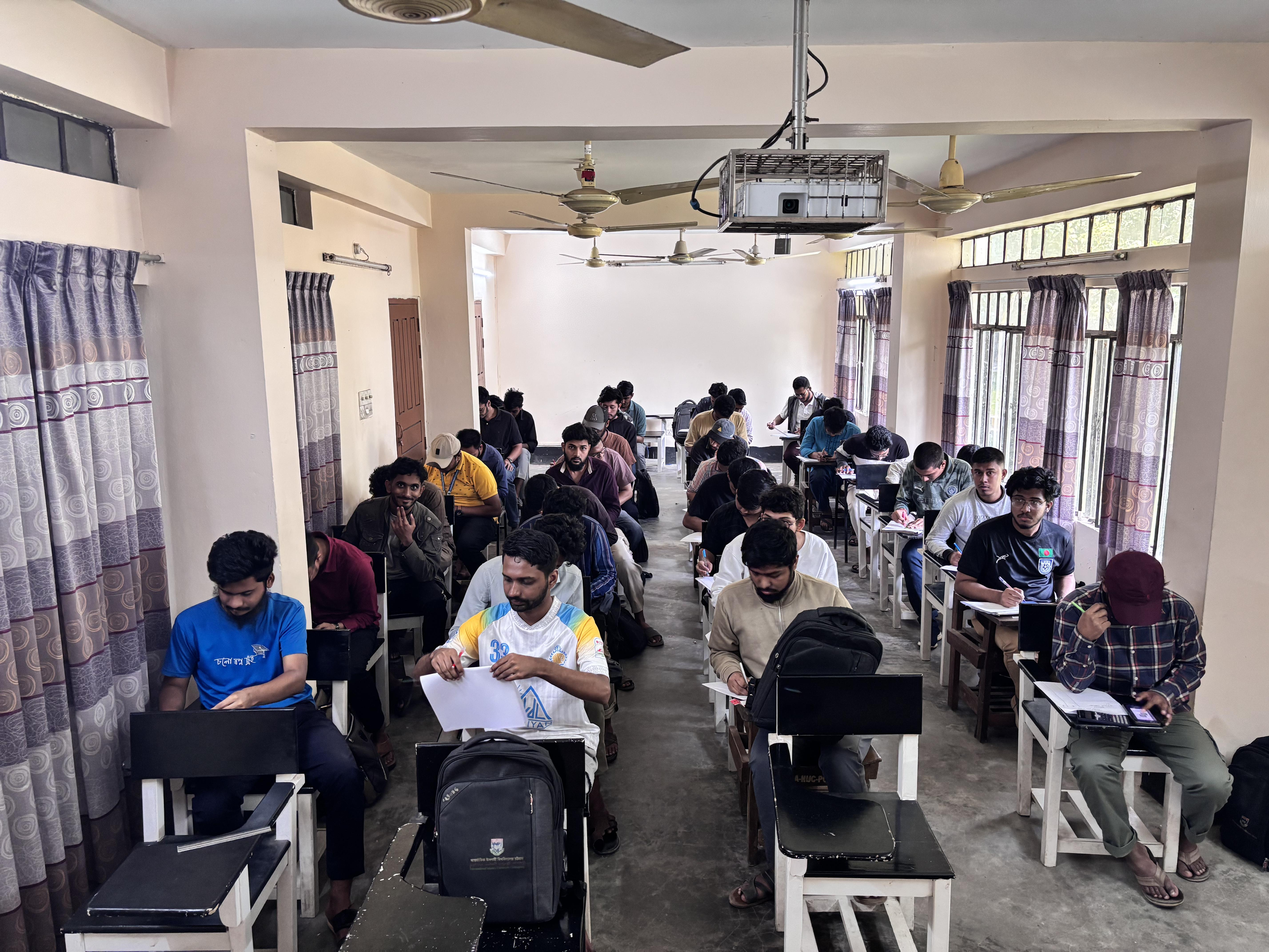hidden_communication: (699, 421, 742, 454)
no_cheating: (450, 533, 608, 761), (172, 531, 314, 750), (695, 524, 832, 733), (979, 463, 1073, 614), (895, 441, 971, 542), (374, 458, 437, 567), (427, 427, 500, 502), (774, 374, 836, 442), (840, 424, 911, 482), (963, 449, 1012, 527), (720, 470, 782, 531), (555, 421, 611, 484), (804, 404, 858, 469), (472, 383, 508, 434), (600, 388, 625, 426)
using_phone: (1049, 540, 1232, 782)
